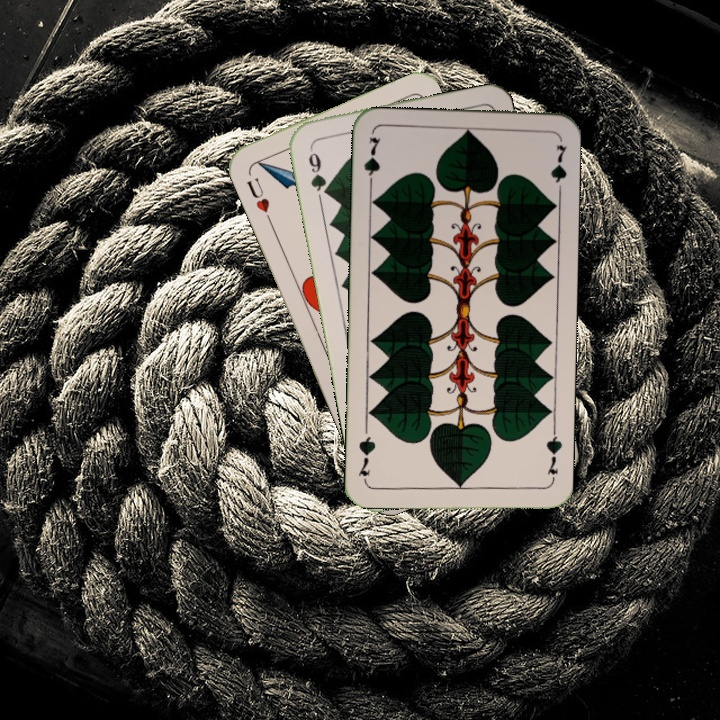G7: (542, 426, 565, 486), (360, 133, 383, 191)
G9: (304, 142, 332, 199)
HU: (242, 173, 272, 216)
